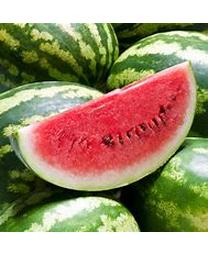watermelon: (13, 58, 199, 192)
